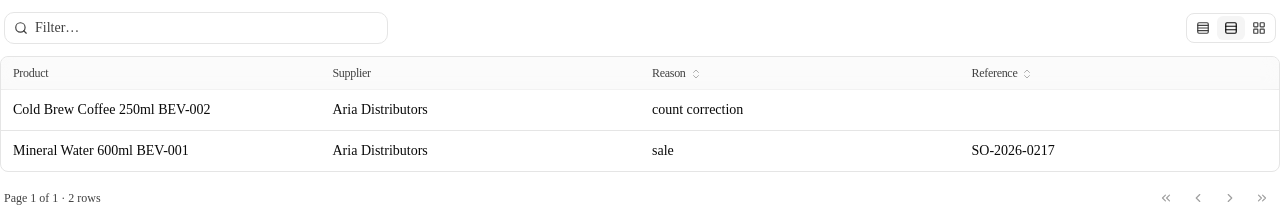
Scenario: DataTable global filter wiring › finds a cell-only column, multi-word (cause A)
This screenshot has width=1280, height=222.
Step 1. Type "Mineral Water" into the field named "filter table" → [196, 28], box [4,12,388,44]
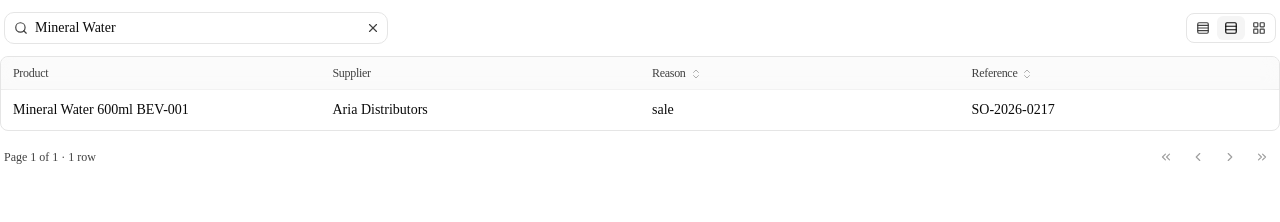
Check: the text "Mineral Water 600ml BEV-001" is shown, box [13,102,189,117]
Check: the text "Cold Brew Coffee" is gone
